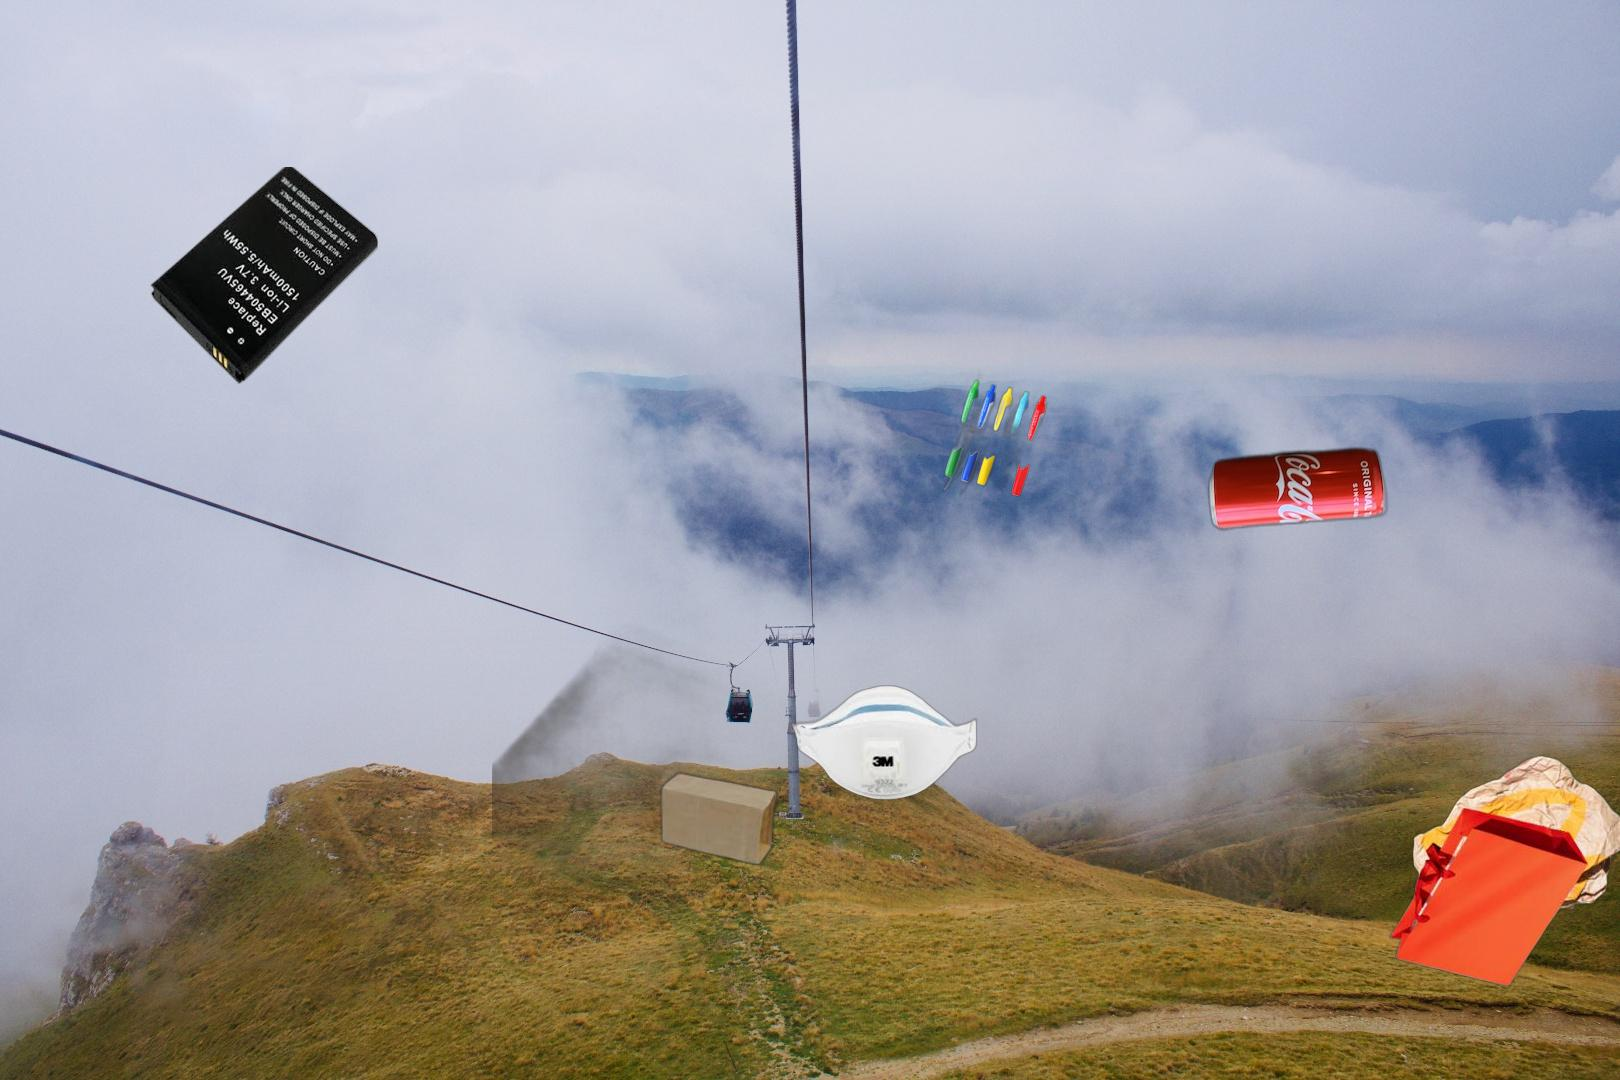battery: (148, 168, 378, 385)
metal-cans: (1205, 442, 1391, 535)
paper-bag: (492, 614, 792, 899), (1387, 752, 1620, 990)
penholder: (920, 368, 1055, 516)
trash: (788, 683, 979, 803)
